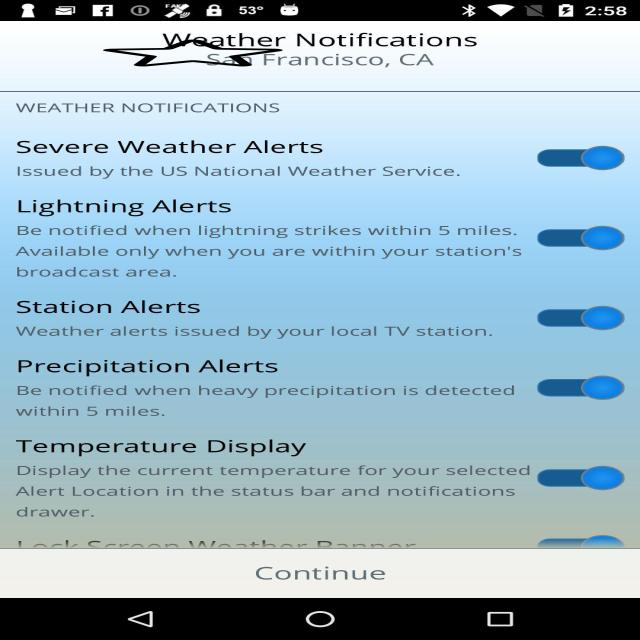forced continuity: (103, 39, 283, 67)
